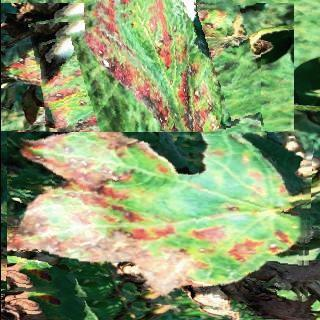blight: (6, 132, 310, 318), (35, 0, 260, 181)
